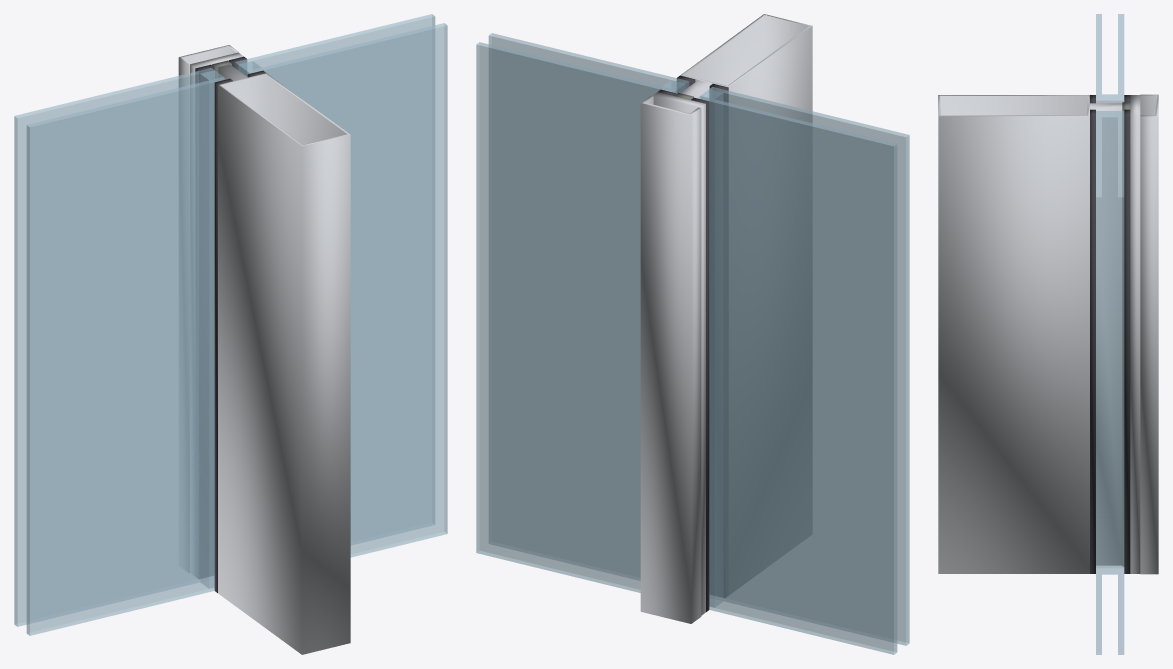
The model's file is curtain-wall-mullion.glb.
3 renders of one model, left to right at view 1: azimuth 30°, elevation 25°; view 2: azimuth 150°, elevation 25°; view 3: azimuth 270°, elevation 25°, orthographic. The views are drawn at different scales.
Visible parts, largest first — view 1: IGU_inner_pane_6mm, IGU_outer_pane_6mm, Mullion_50x150__aluminium_, IGU_inner_pane_6mm__1_, IGU_outer_pane_6mm__1_, IGU_spacer_16mm, Inner_gasket_EPDM, Outer_gasket_EPDM, Cover_cap__aluminium_; view 2: IGU_outer_pane_6mm, IGU_inner_pane_6mm, IGU_outer_pane_6mm__1_, IGU_inner_pane_6mm__1_, Cover_cap__aluminium_, Mullion_50x150__aluminium_, IGU_spacer_16mm, Pressure_plate__aluminium_, Outer_gasket_EPDM, Inner_gasket_EPDM; view 3: Mullion_50x150__aluminium_, Cover_cap__aluminium_, IGU_spacer_16mm__1_, Pressure_plate__aluminium_, IGU_outer_pane_6mm__1_, IGU_inner_pane_6mm__1_, Outer_gasket_EPDM__1_, Inner_gasket_EPDM__1_, Thermal_break__polyamide_, IGU_outer_pane_6mm, IGU_inner_pane_6mm.
Boxes of the visible parts, x1,y1,x2,y2 form: IGU_inner_pane_6mm: (26, 77, 226, 635); IGU_outer_pane_6mm: (14, 68, 214, 626); Mullion_50x150__aluminium_: (218, 64, 350, 654); IGU_inner_pane_6mm__1_: (247, 23, 447, 557); IGU_outer_pane_6mm__1_: (234, 14, 435, 544); IGU_spacer_16mm: (200, 70, 223, 588); Inner_gasket_EPDM: (214, 78, 232, 592); Outer_gasket_EPDM: (195, 64, 214, 578); Cover_cap__aluminium_: (178, 45, 239, 87); IGU_outer_pane_6mm: (697, 96, 897, 654); IGU_inner_pane_6mm: (709, 87, 909, 645); IGU_outer_pane_6mm__1_: (476, 42, 676, 592); IGU_inner_pane_6mm__1_: (488, 33, 689, 580); Cover_cap__aluminium_: (640, 96, 701, 623); Mullion_50x150__aluminium_: (680, 14, 812, 123); IGU_spacer_16mm: (700, 89, 723, 607); Pressure_plate__aluminium_: (652, 92, 705, 615); Outer_gasket_EPDM: (691, 97, 709, 611); Inner_gasket_EPDM: (709, 83, 728, 597); Mullion_50x150__aluminium_: (938, 95, 1122, 573); Cover_cap__aluminium_: (1140, 94, 1158, 574); IGU_spacer_16mm__1_: (1102, 111, 1117, 574); Pressure_plate__aluminium_: (1130, 95, 1140, 573); IGU_outer_pane_6mm__1_: (1118, 111, 1124, 654); IGU_inner_pane_6mm__1_: (1096, 111, 1101, 654); Outer_gasket_EPDM__1_: (1124, 109, 1130, 573); Inner_gasket_EPDM__1_: (1090, 109, 1095, 573); Thermal_break__polyamide_: (1122, 102, 1130, 566); IGU_outer_pane_6mm: (1118, 14, 1124, 103); IGU_inner_pane_6mm: (1096, 14, 1101, 103).
Size of the model in its own units: 0.43 by 0.5 by 0.218.
